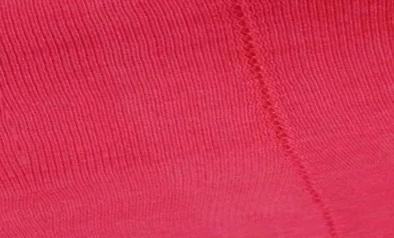slub: (227, 0, 346, 238)
